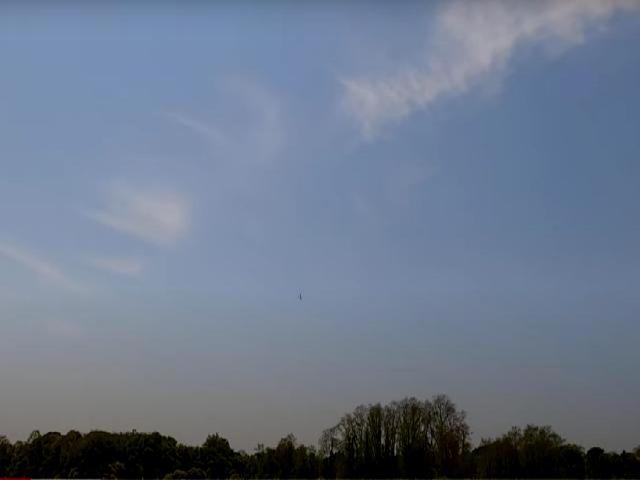iha: (298, 293, 302, 301)
